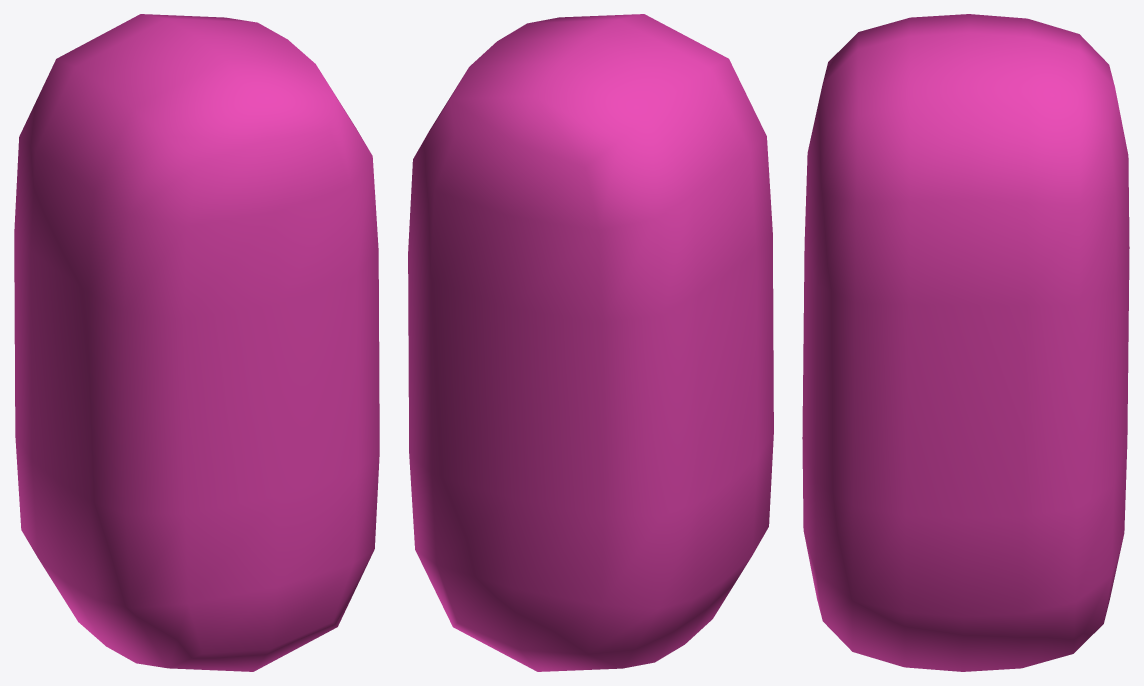
3 renders of one model, left to right at view 1: azimuth 30°, elevation 25°; view 2: azimuth 150°, elevation 25°; view 3: azimuth 270°, elevation 25°, orthographic.
Parts seen in each view (by area): view 1: Object_20; view 2: Object_20; view 3: Object_20.
Boxes of the visible parts, x1,y1,x2,y2 form: Object_20: (14, 14, 379, 671); Object_20: (408, 14, 773, 671); Object_20: (802, 14, 1129, 671).
Size of the model in its own units: 44.17 by 93.21 by 44.57.
